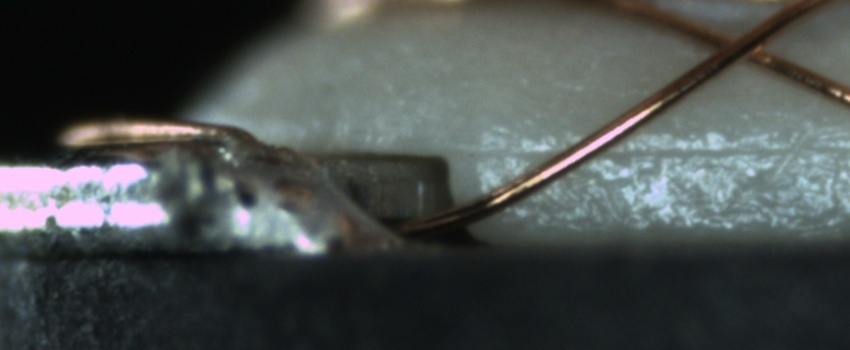CL: (696, 16, 786, 74)
DL: (473, 122, 849, 184)
TE: (34, 116, 280, 159)
